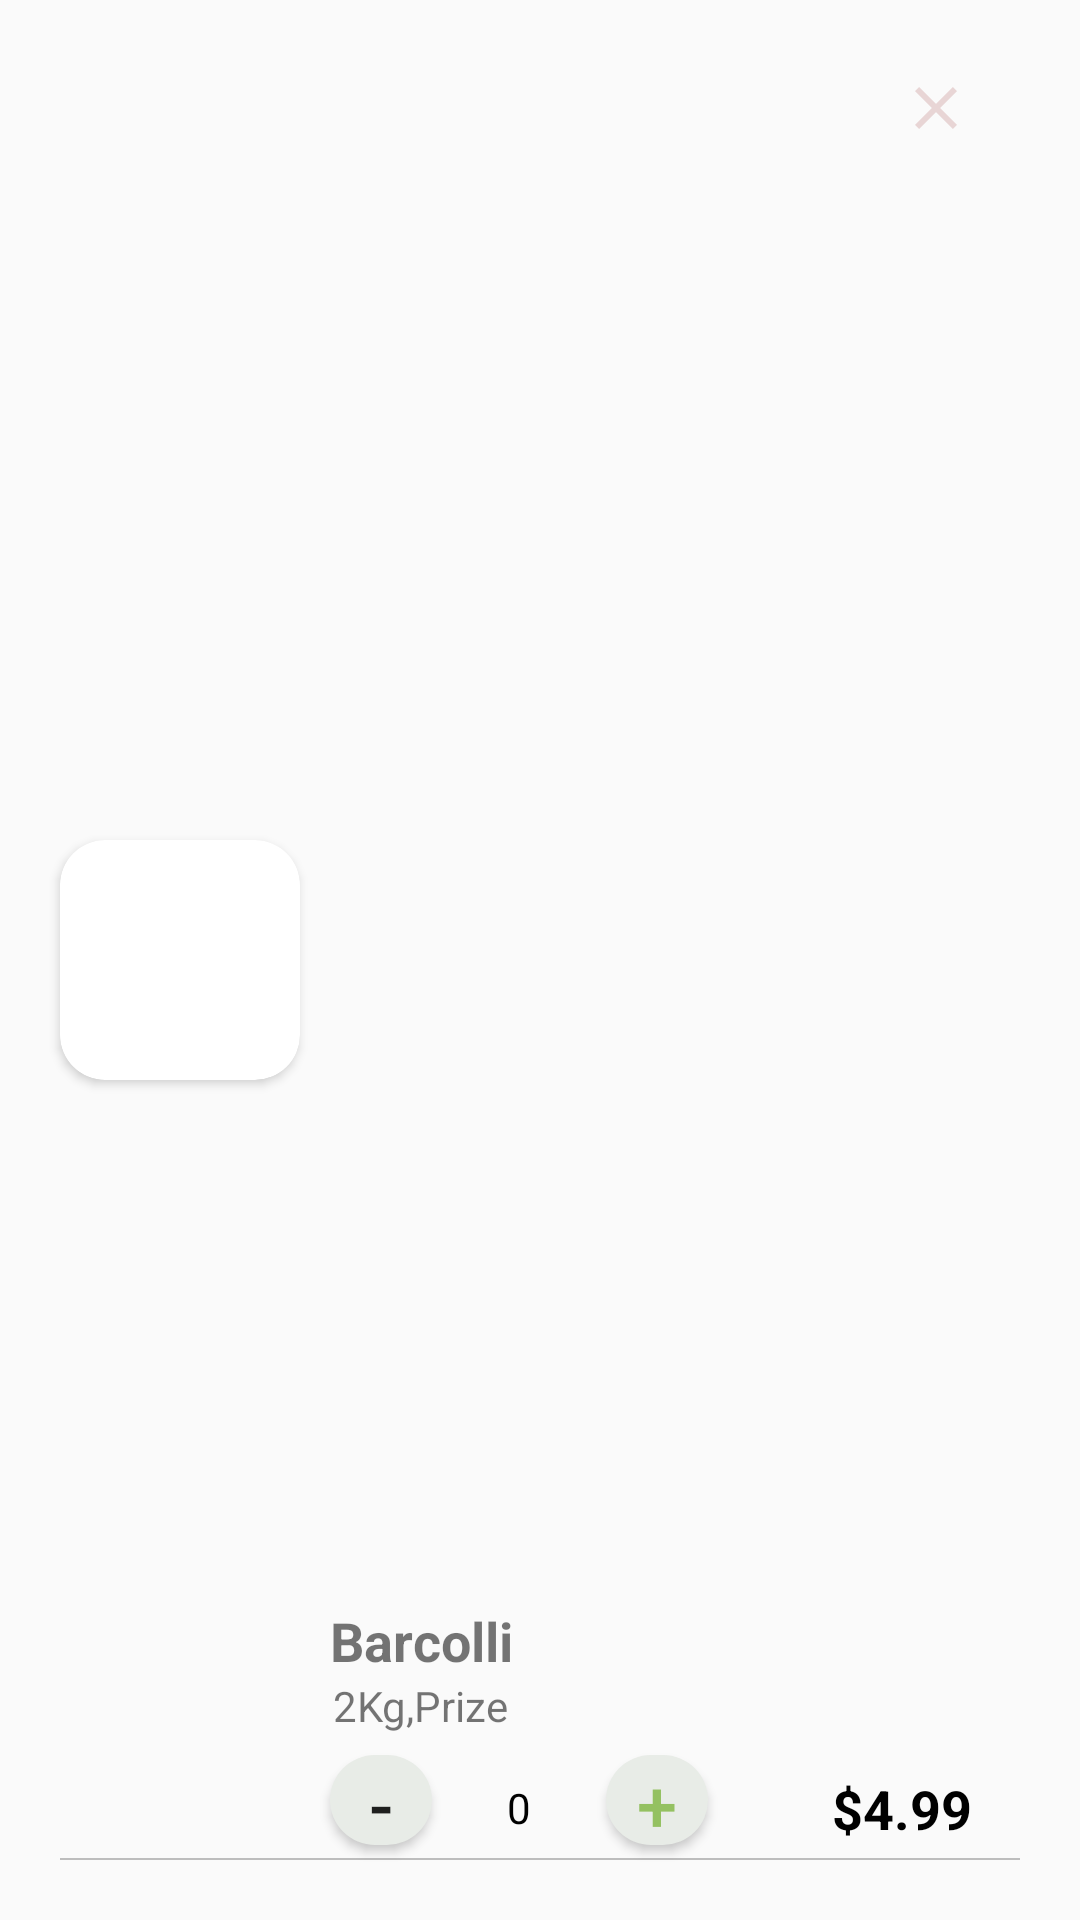

Where icons sit on this 1080px×1920px app screen, as (x1, y1, x2, y2):
close: (916, 88, 956, 128)
